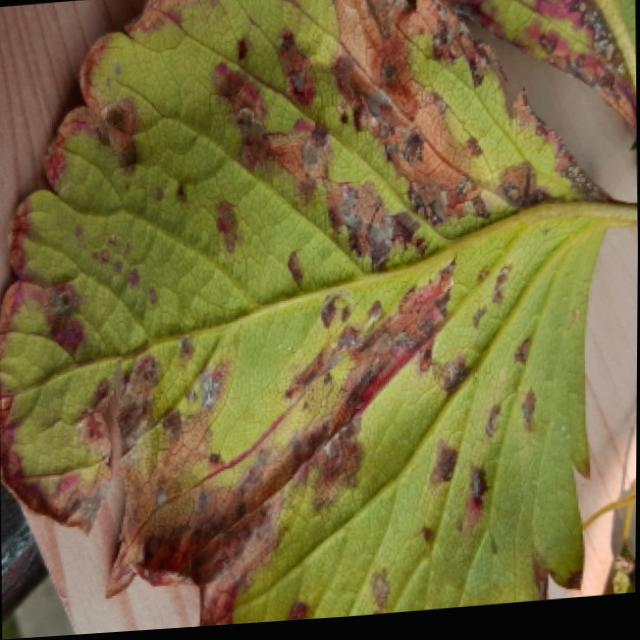Angular Leafspot: (0, 0, 620, 630), (444, 0, 637, 161)
